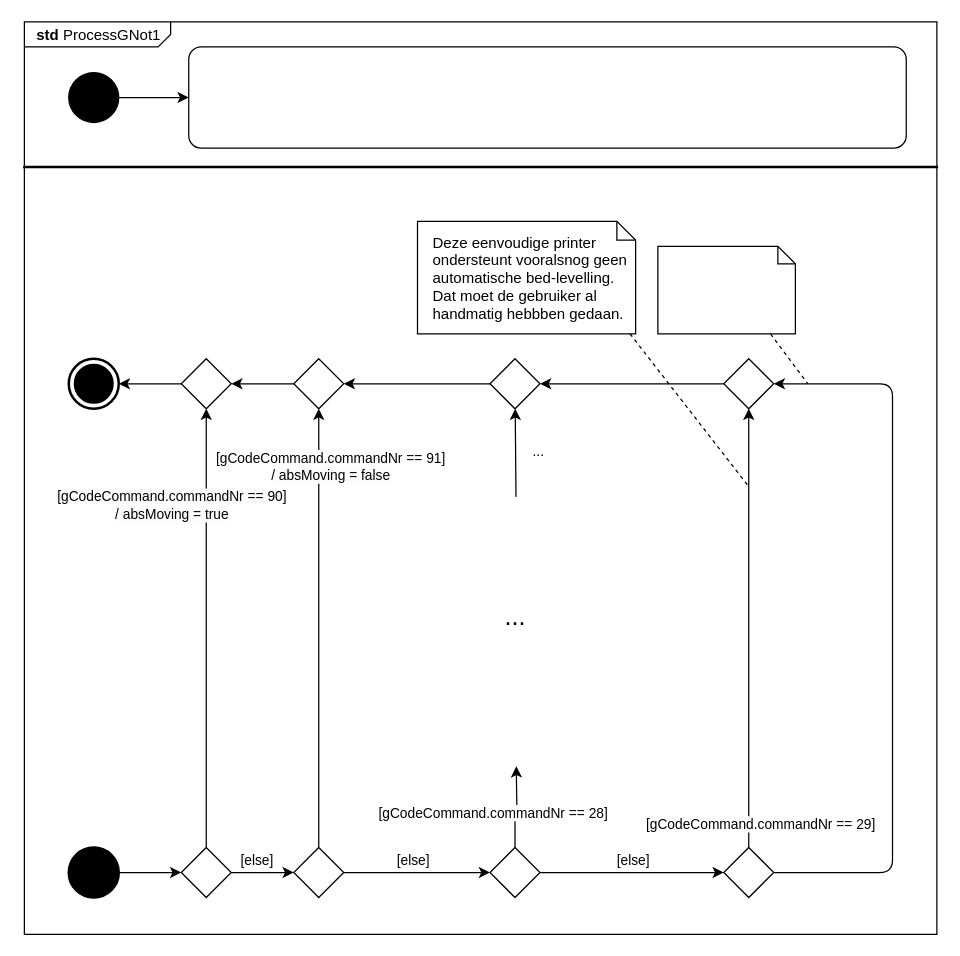
The diagram is 960 pixels wide and 956 high, and some of its shapes have lost their labels. Each missing label, with the box of its shape:
<<interface>> ...: (188, 46, 906, 148)
Onbekende G waarden negeren we vooralsnog: (657, 245, 795, 334)
